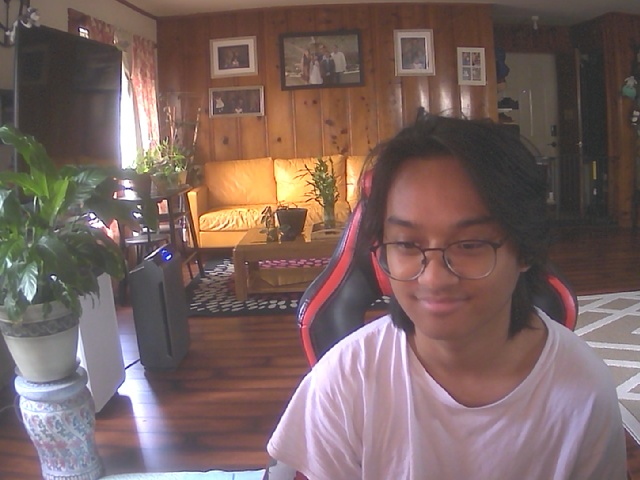happy: (366, 135, 543, 345)
